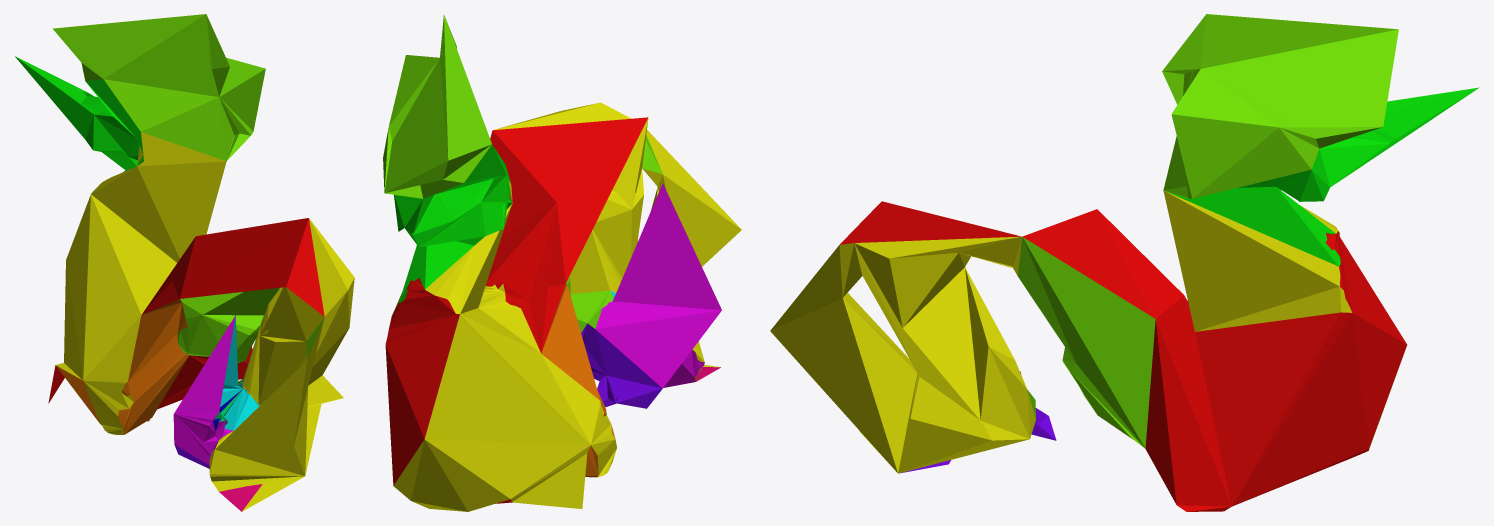
File: Dragon_80K_nanite_LOD8.fbx
3 renders of one model, left to right at view 1: azimuth 30°, elevation 25°; view 2: azimuth 150°, elevation 25°; view 3: azimuth 270°, elevation 25°, orthographic. The views are drawn at different scales.
Bounding box in the file's own units: 0.3578 × 0.7046 × 0.9344.
